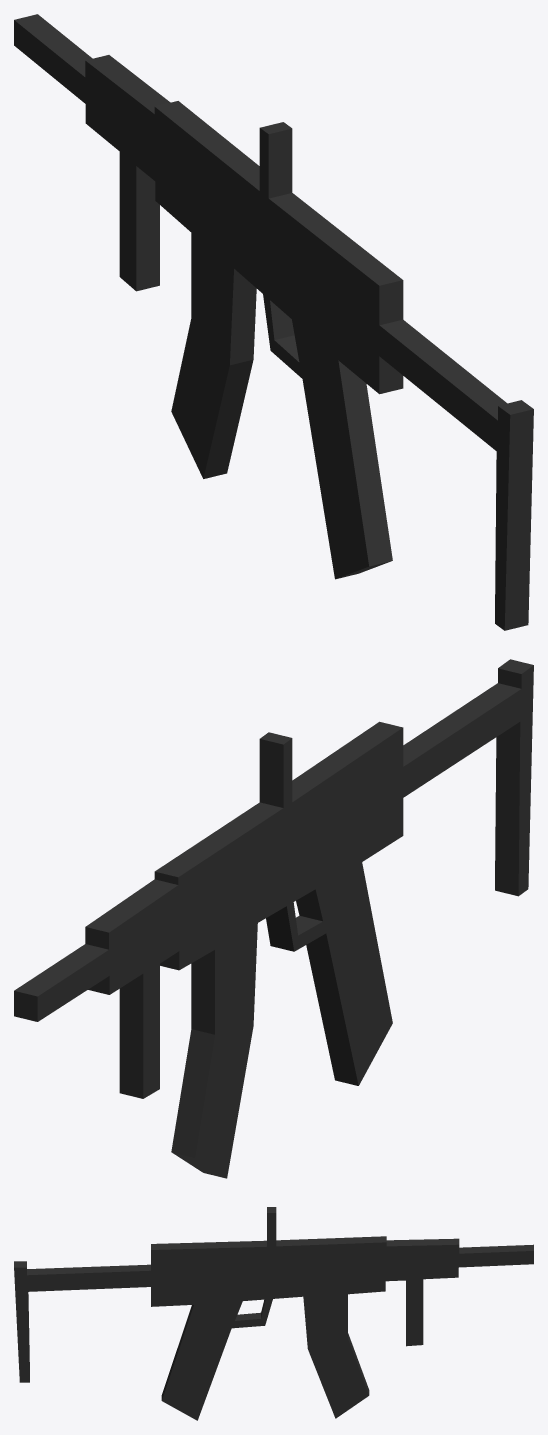
Rendered from gun.fbx.
3 renders of one model, top to bottom at view 1: azimuth 30°, elevation 25°; view 2: azimuth 150°, elevation 25°; view 3: azimuth 270°, elevation 25°, orthographic. The views are drawn at different scales.
Parts seen in each view (by area): view 1: Cube.001; view 2: Cube.001; view 3: Cube.001.
Boxes of the visible parts, <box> form: Cube.001: <box>14,14,533,630</box>; Cube.001: <box>14,659,533,1178</box>; Cube.001: <box>14,1207,533,1420</box>.
Bounding box in the file's own units: 2.61 × 41.6 × 94.33.
